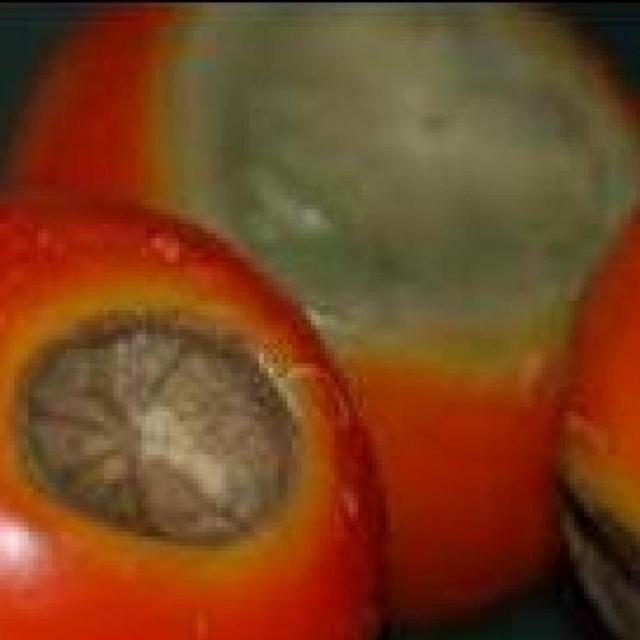Blossom End Rot Fruit: (69, 116, 389, 364)
